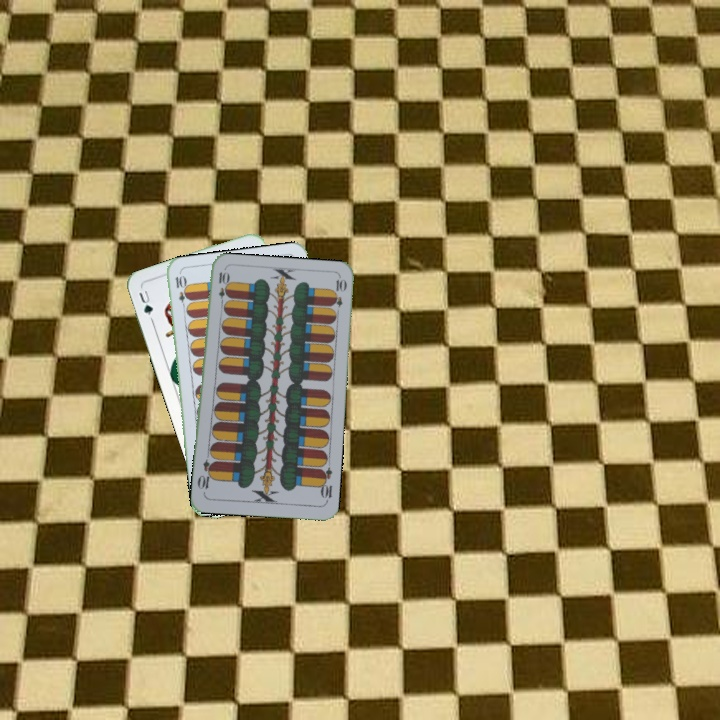E10: (316, 464, 335, 505), (171, 271, 189, 312), (214, 268, 229, 308)
GU: (135, 286, 156, 324)
